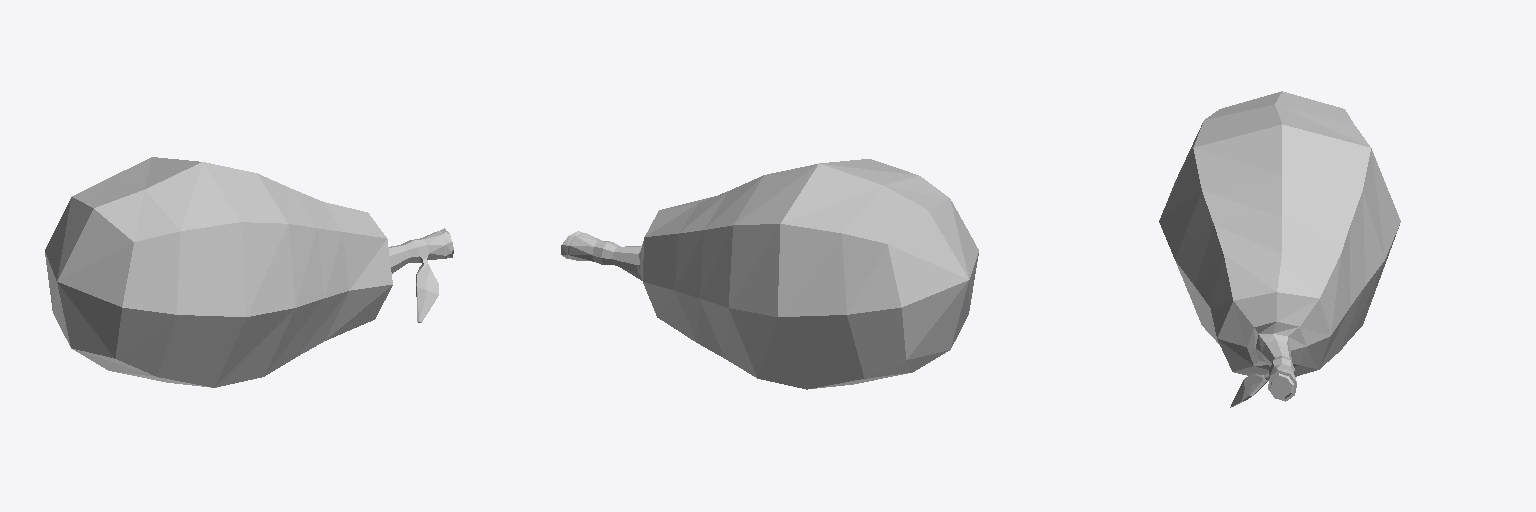
The model's file is avocado.obj.
The picture shows the model from 3 angles: view 1: azimuth 30°, elevation 25°; view 2: azimuth 150°, elevation 25°; view 3: azimuth 270°, elevation 25°; orthographic projection.
Parts seen in each view (by area): view 1: Cube; view 2: Cube; view 3: Cube.
Boxes of the visible parts, <box> form: Cube: <box>45,157,453,387</box>; Cube: <box>561,159,978,389</box>; Cube: <box>1159,91,1400,407</box>.
Size of the model in its own units: 1.58 by 0.8004 by 0.8277.